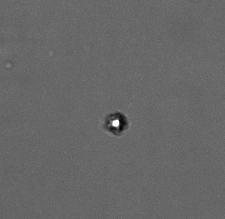Living Cell: (106, 113, 128, 134)
